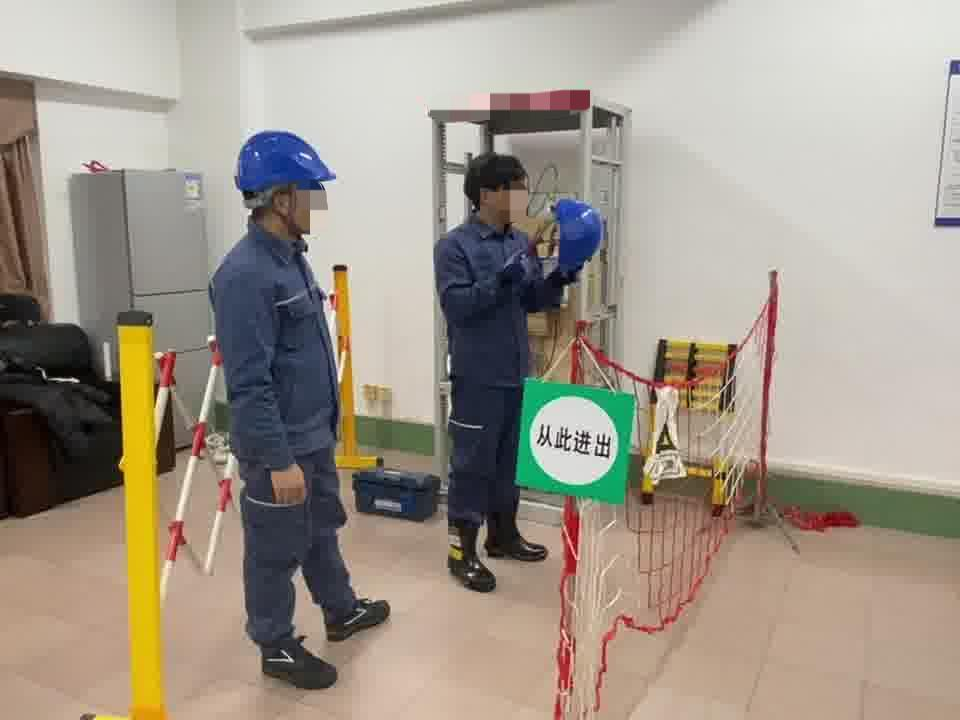halt: (236, 130, 340, 240)
inear: (260, 185, 305, 230)
noear: (476, 183, 500, 216)
unhalt: (465, 160, 533, 227)
